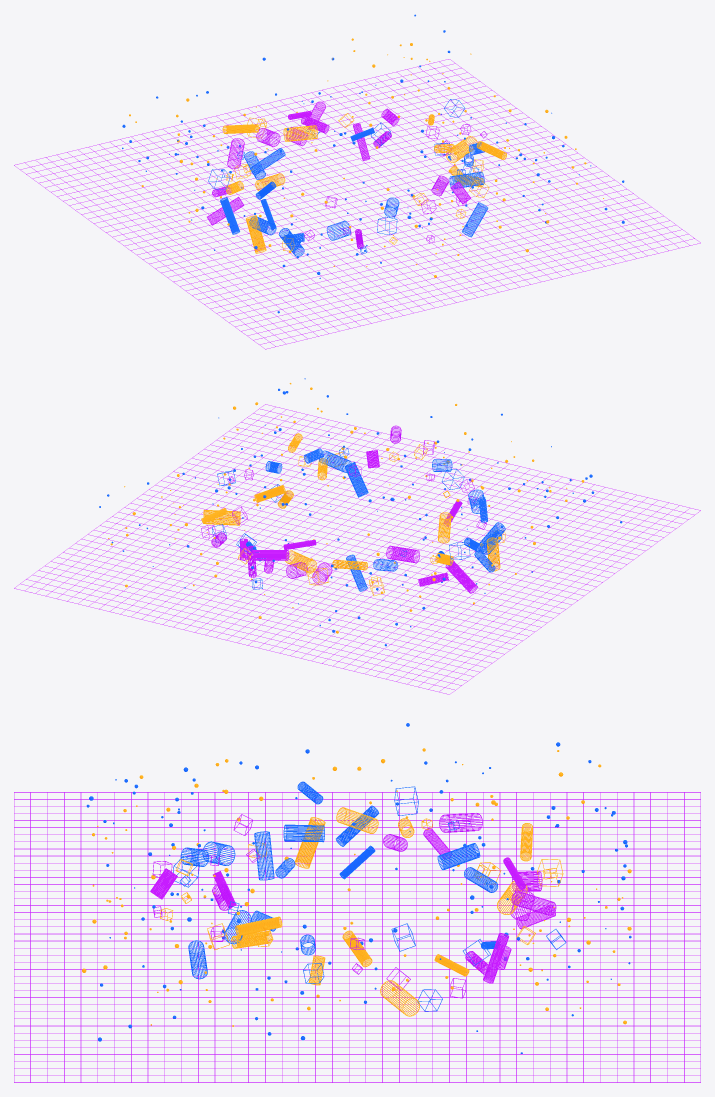
The model's file is cenario.glb.
3 views of the same model, one above another, from view 1: azimuth 30°, elevation 25°; view 2: azimuth 150°, elevation 25°; view 3: azimuth 270°, elevation 25° (orthographic). The views are drawn at different scales.
Parts seen in each view (by area): view 1: Chao_Grelha_Neon; view 2: Chao_Grelha_Neon; view 3: Chao_Grelha_Neon, Cylinder.035, Cylinder.020, Cylinder.006, Cylinder.032, Cylinder.011, Cylinder.017, Cylinder.013, Cylinder.019, Cylinder.037, Cylinder.005.
Part boxes in pixels (<box>): Chao_Grelha_Neon: <box>14,59,700,349</box>; Chao_Grelha_Neon: <box>14,404,700,694</box>; Chao_Grelha_Neon: <box>14,792,700,1082</box>; Cylinder.035: <box>254,831,274,880</box>; Cylinder.020: <box>295,817,325,868</box>; Cylinder.006: <box>283,824,324,842</box>; Cylinder.032: <box>439,813,482,832</box>; Cylinder.011: <box>380,980,419,1016</box>; Cylinder.017: <box>437,843,480,870</box>; Cylinder.013: <box>511,891,556,915</box>; Cylinder.019: <box>336,807,378,833</box>; Cylinder.037: <box>188,940,207,979</box>; Cylinder.005: <box>336,805,379,846</box>.
Bounding box in the file's own units: 200 × 37.94 × 200.
